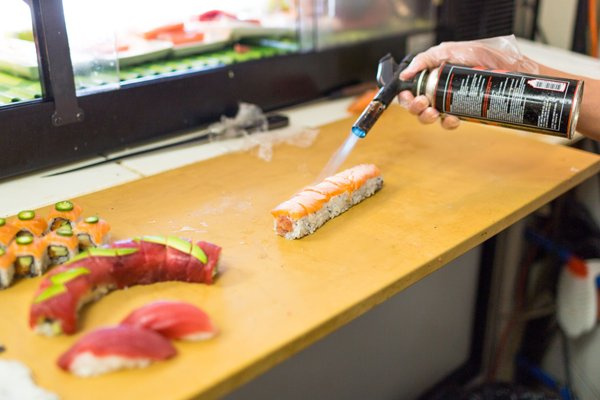burger: (29, 234, 221, 337)
curry: (1, 21, 591, 393)
